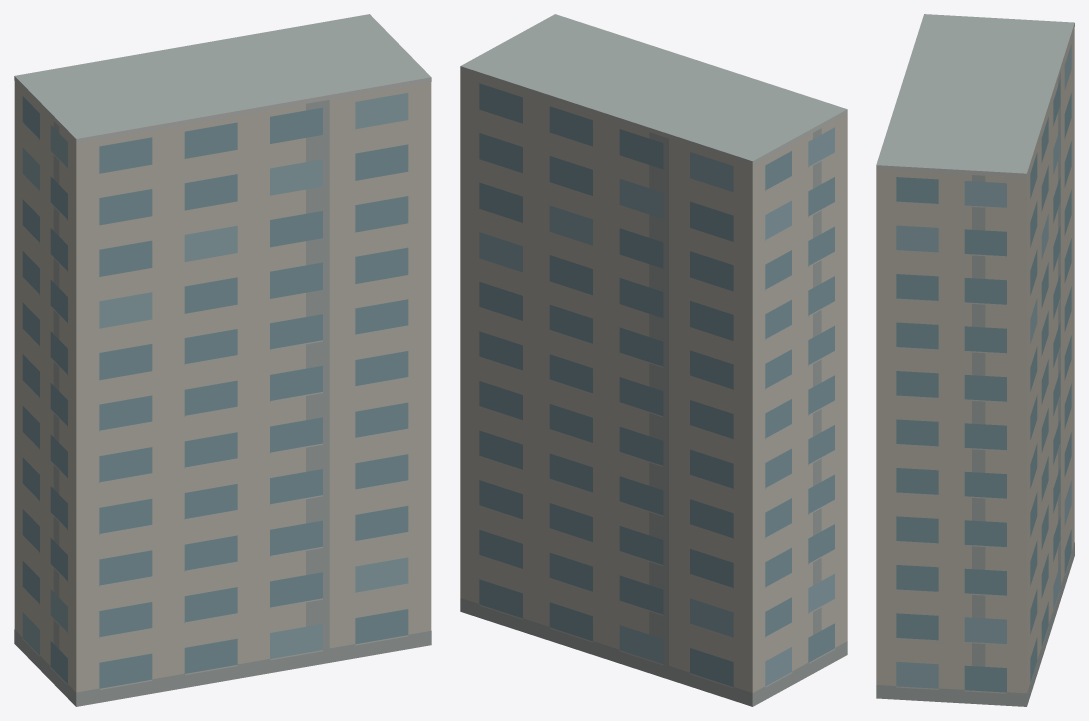
The model's file is residential-b1006d15-f6e3-41eb-b7f8-7762afd90531.glb.
3 views of the same model, side by side, from view 1: azimuth 30°, elevation 25°; view 2: azimuth 150°, elevation 25°; view 3: azimuth 270°, elevation 25° (orthographic). The views are drawn at different scales.
Visible parts, largest first — view 1: residential-b1006d15-f6e3-41eb-b7f8-7762afd90531.tmp; view 2: residential-b1006d15-f6e3-41eb-b7f8-7762afd90531.tmp; view 3: residential-b1006d15-f6e3-41eb-b7f8-7762afd90531.tmp.
Boxes of the visible parts, box(x1,y1,x2,y2) form: residential-b1006d15-f6e3-41eb-b7f8-7762afd90531.tmp: box(14, 14, 431, 706); residential-b1006d15-f6e3-41eb-b7f8-7762afd90531.tmp: box(460, 14, 847, 706); residential-b1006d15-f6e3-41eb-b7f8-7762afd90531.tmp: box(876, 14, 1074, 706).
Size of the model in its own units: 18.62 by 29 by 9.8.
